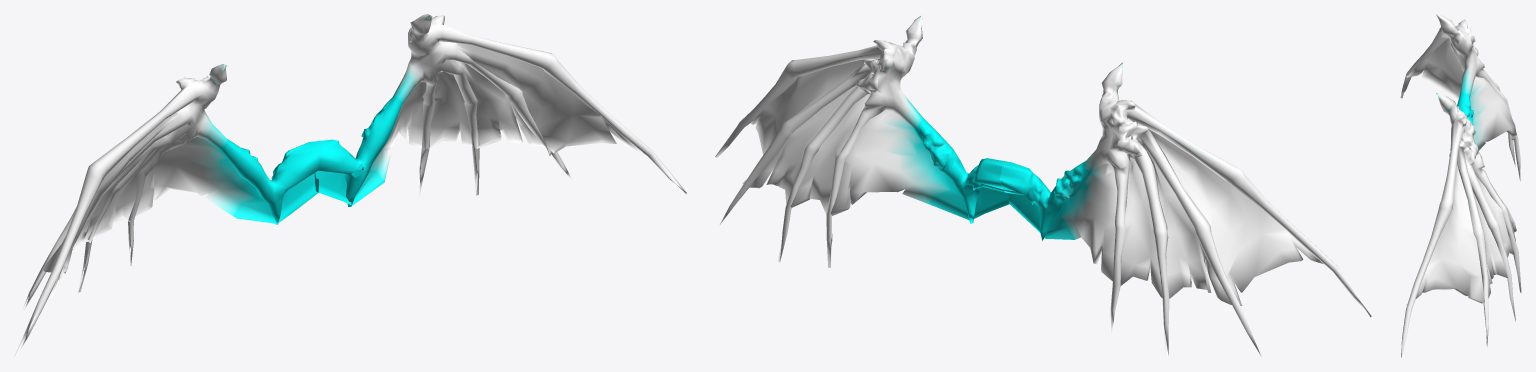
The model's file is Wings.fbx.
The picture shows the model from 3 angles, left to right: view 1: azimuth 30°, elevation 25°; view 2: azimuth 150°, elevation 25°; view 3: azimuth 270°, elevation 25°; orthographic projection. The views are drawn at different scales.
Visible parts, largest first — view 1: node_id59.001; view 2: node_id59.001; view 3: node_id59.001.
Part boxes in pixels (<box>): node_id59.001: <box>14,14,686,357</box>; node_id59.001: <box>715,14,1371,356</box>; node_id59.001: <box>1400,14,1521,357</box>.
Size of the model in its own units: 51151 by 17556 by 10086.
